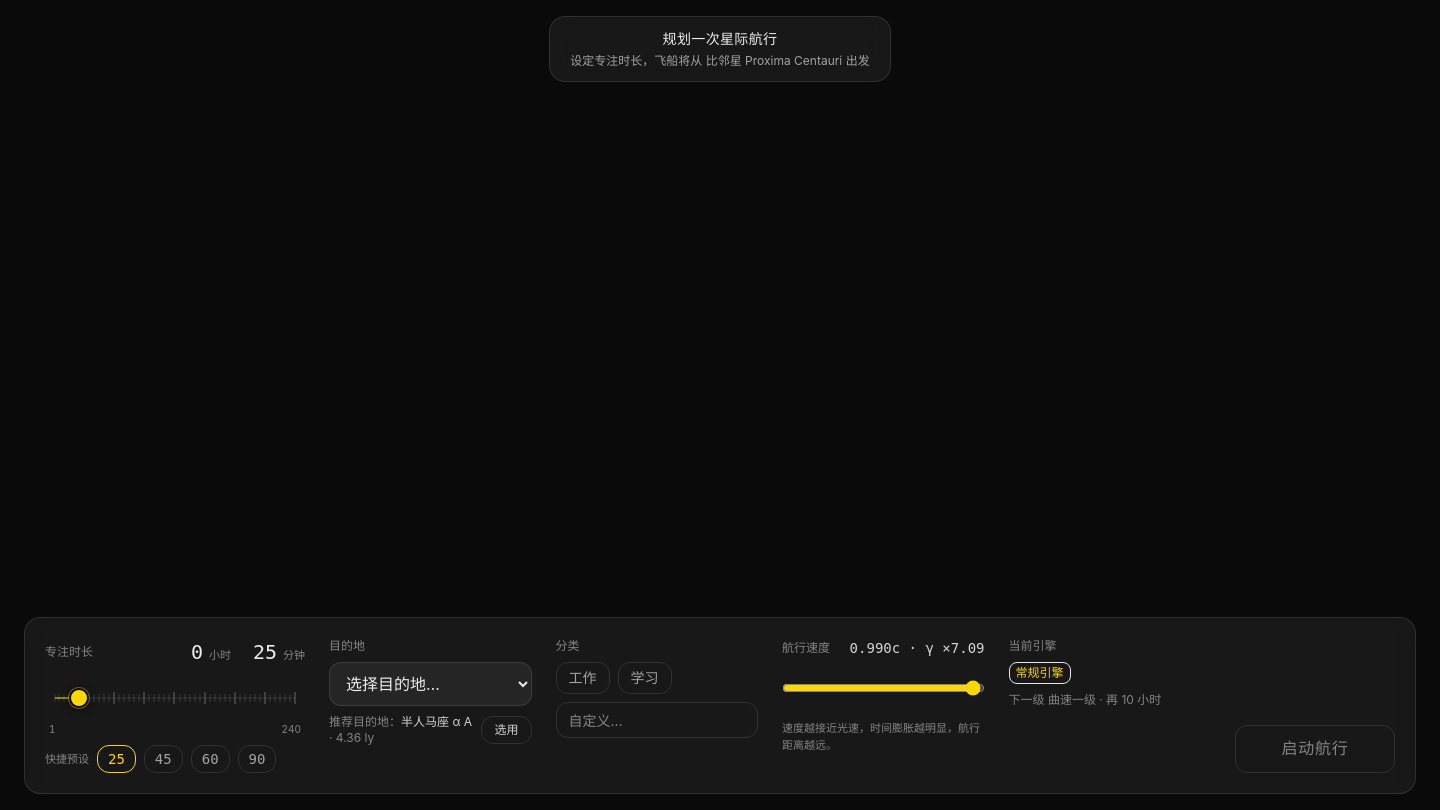
Test: SetupPanel › 非太阳出发但星表未加载：出发地距太阳回退硬编码表而非 0
Select "织女一 (天琴座 α Vega) · 25.04 ly" in the dropdown labelled "目的地" at (430, 684), box [329,662,532,706]
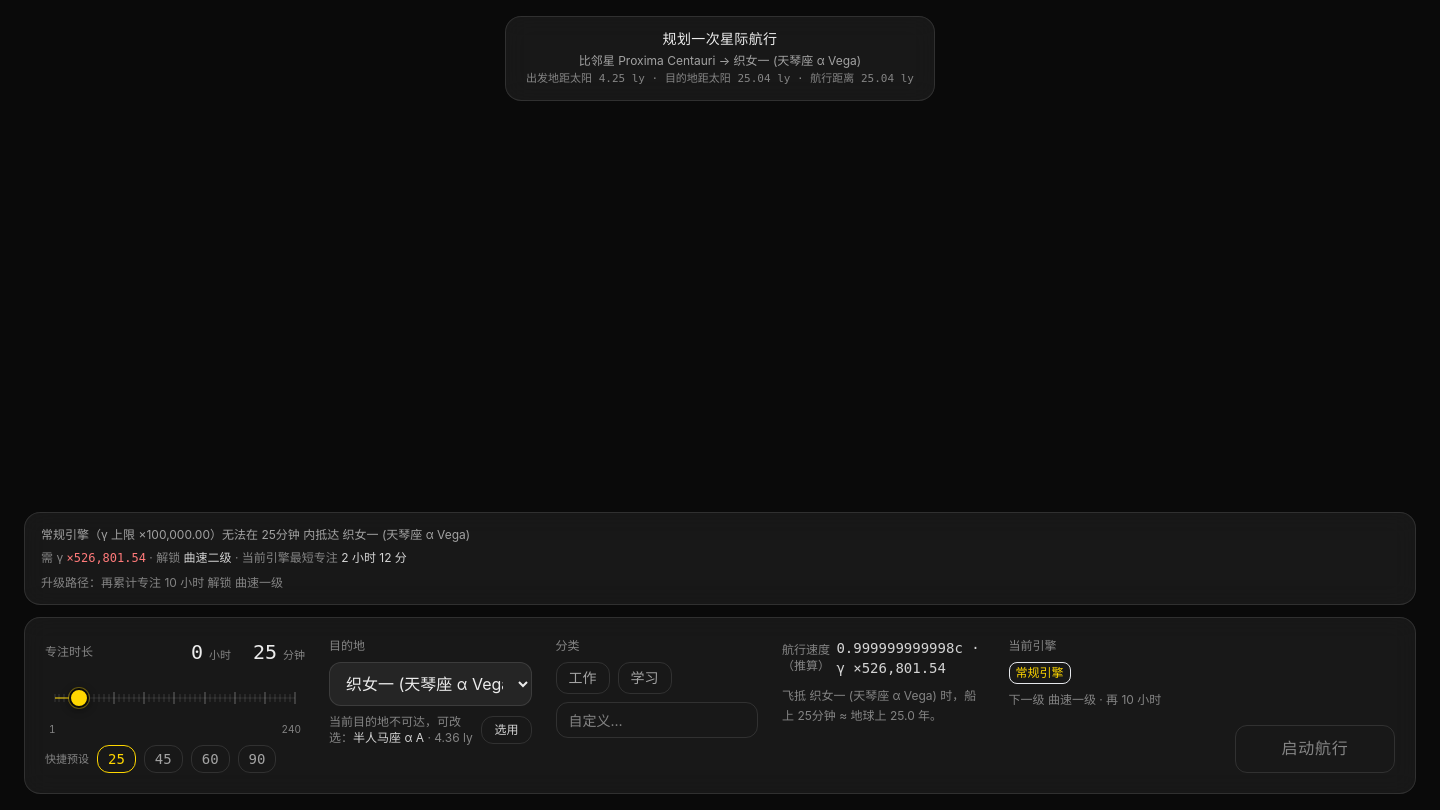
Expected: the text "比邻星 Proxima Centauri → 织女一 (天琴座 α Vega)" is shown, [579,53,861,68]
Expected: the text "出发地距太阳 4.25 ly · 目的地距太阳 25.04 ly · 航行距离 25.04 ly" is shown, [526,71,914,88]
